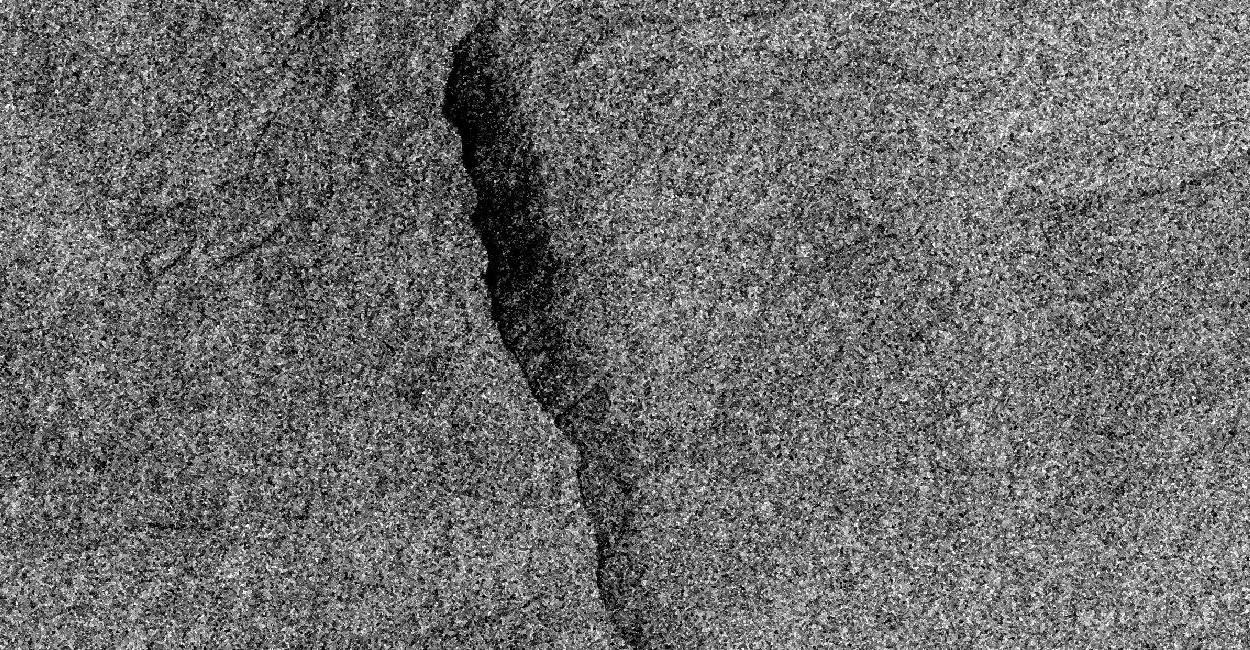Oil Spill: (434, 0, 664, 650), (600, 494, 620, 521), (586, 444, 611, 456), (528, 354, 542, 372), (570, 384, 586, 395), (542, 162, 548, 174), (642, 624, 649, 634), (608, 482, 616, 490), (590, 462, 596, 472), (628, 572, 635, 580), (620, 618, 628, 625), (574, 418, 580, 425), (590, 478, 596, 484), (624, 502, 630, 507), (621, 556, 626, 562), (610, 536, 614, 543), (600, 424, 604, 429), (596, 434, 602, 436), (452, 190, 457, 192), (608, 562, 613, 564), (584, 424, 586, 428), (510, 91, 512, 94), (568, 386, 570, 389), (554, 410, 557, 412), (606, 414, 608, 417), (606, 526, 608, 529), (612, 574, 614, 577), (618, 564, 619, 569), (615, 590, 616, 595), (620, 612, 622, 614), (508, 81, 509, 84), (448, 68, 449, 70), (608, 429, 610, 430), (632, 616, 634, 617)
